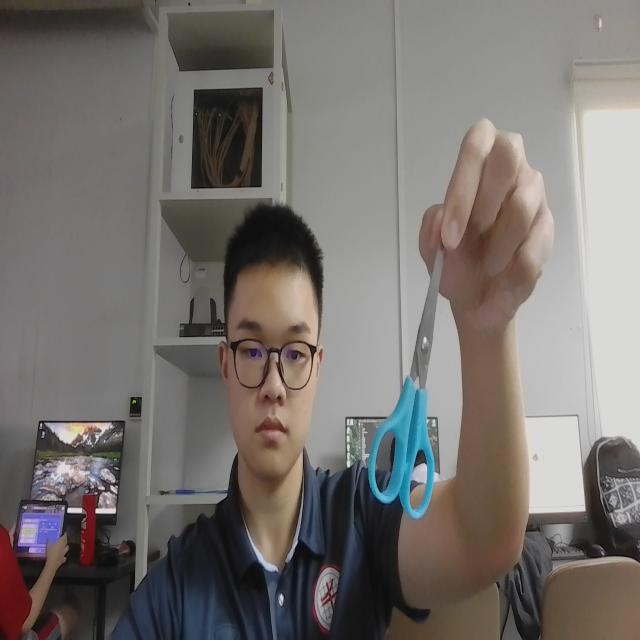scissors: (359, 210, 451, 526)
